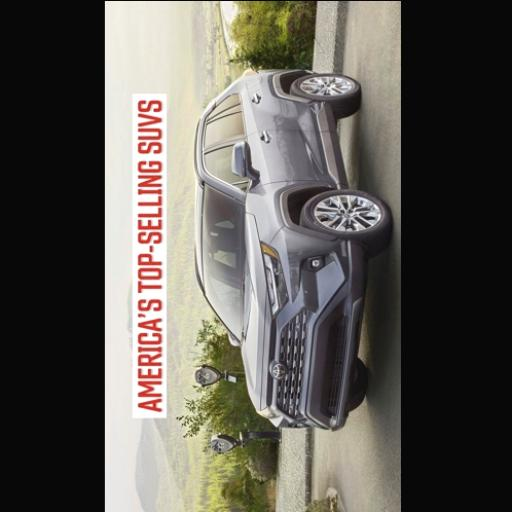suv: (193, 69, 391, 430)
